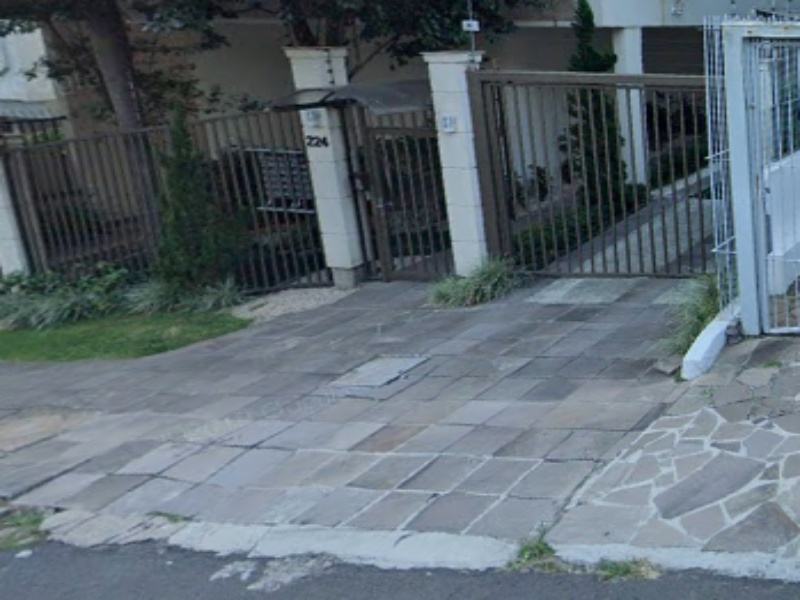v15: (48, 456, 536, 584)
v16: (580, 456, 796, 586)
